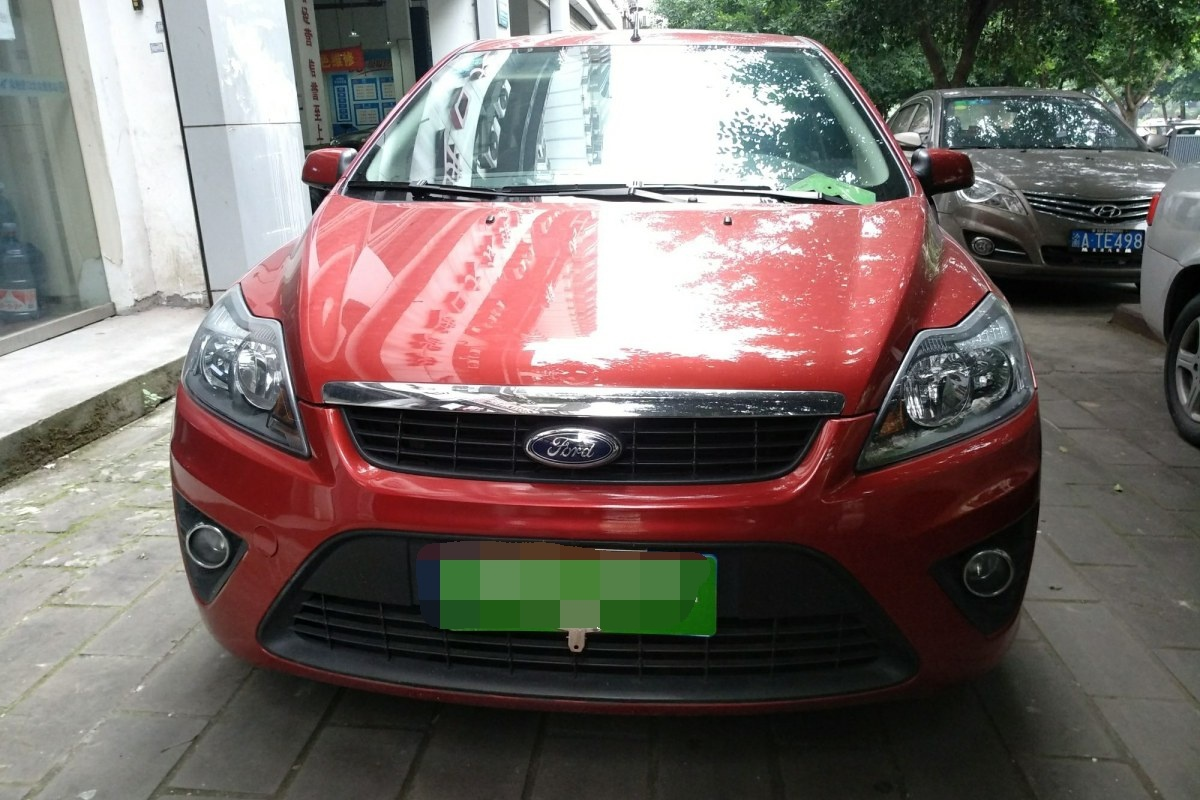family sedan: (182, 31, 1065, 735)
